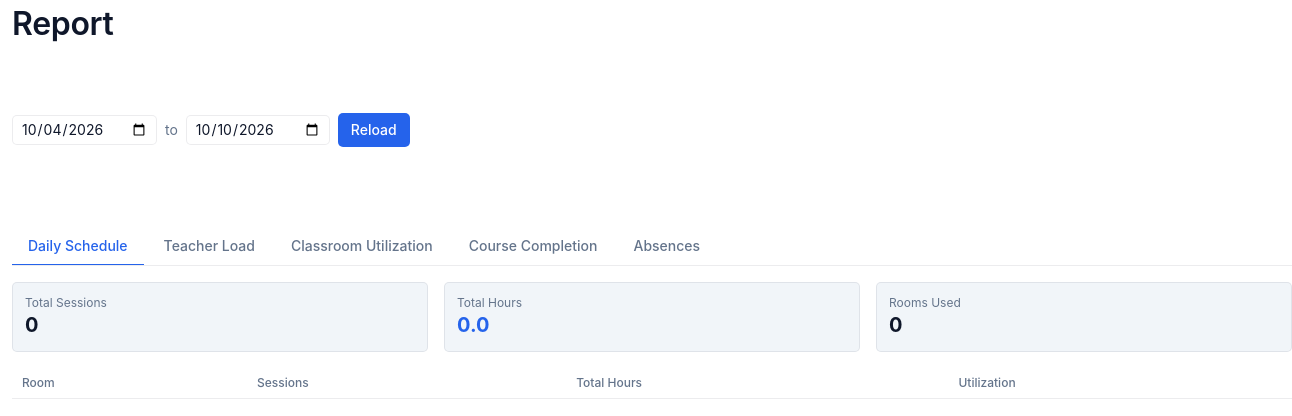
Test: Absence cross-links › Reports renders "Absences" tab with link to Absence Dashboard
expect the heading "Report" is shown: met, box [12,4,114,43]
Click the button "Absences" at (667, 246), box [618,228,716,265]
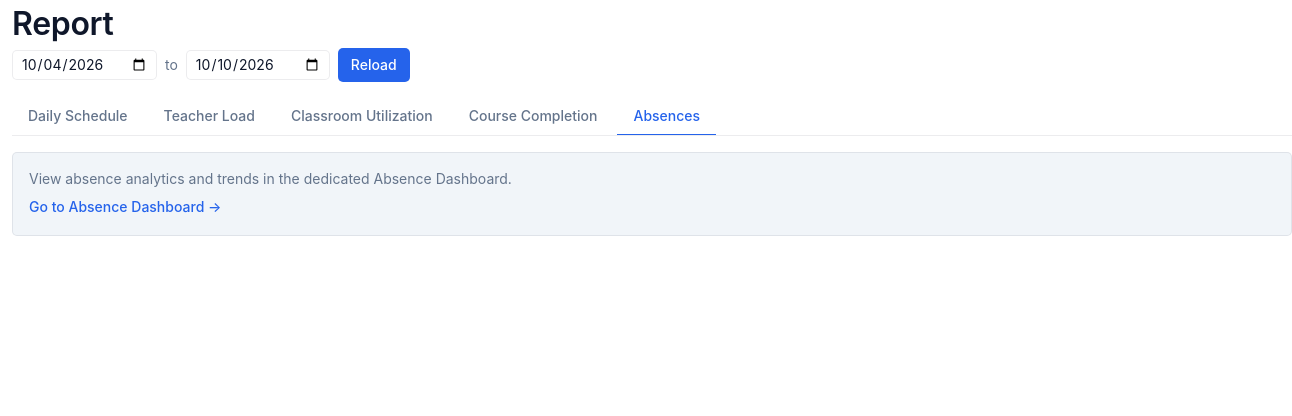
expect the link "Go to Absence Dashboard →" is shown: met, box [29,197,221,217]
